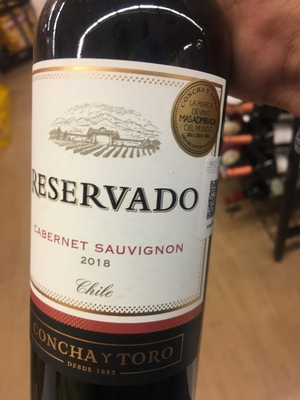reservado cabernet sauvignon: (30, 6, 218, 400)
